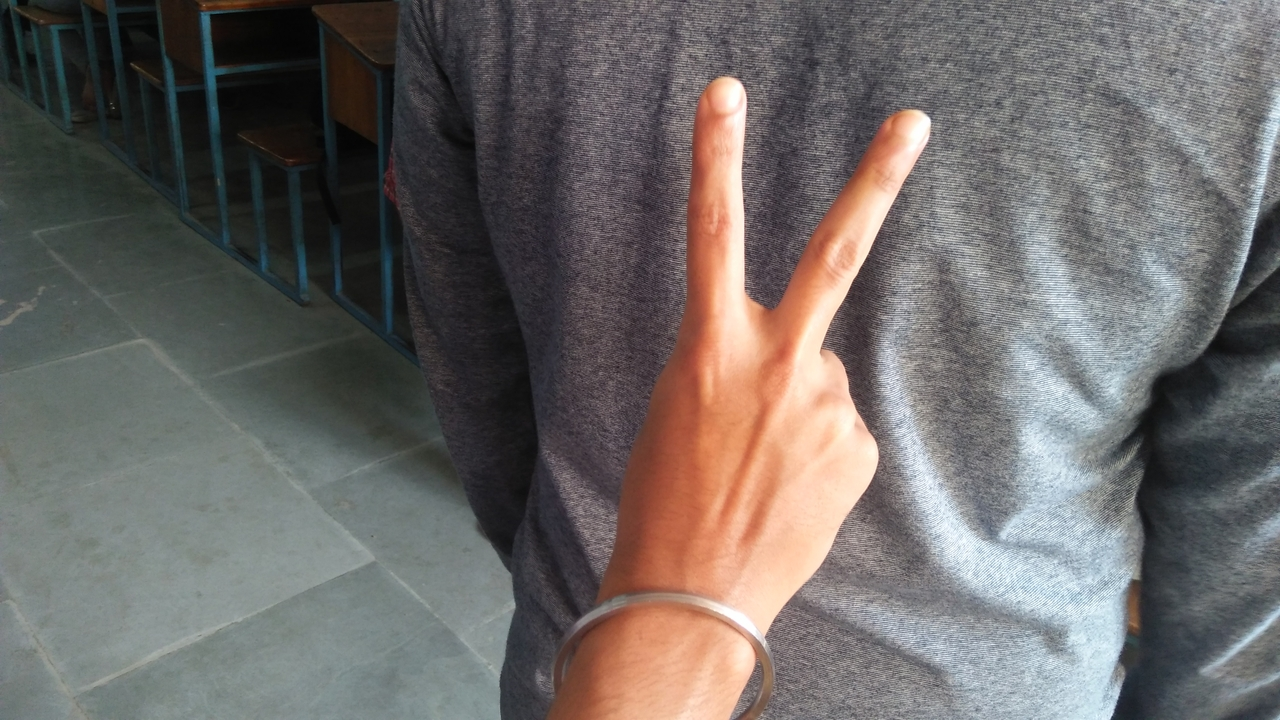fingertip: (876, 102, 942, 158), (694, 74, 748, 130)
